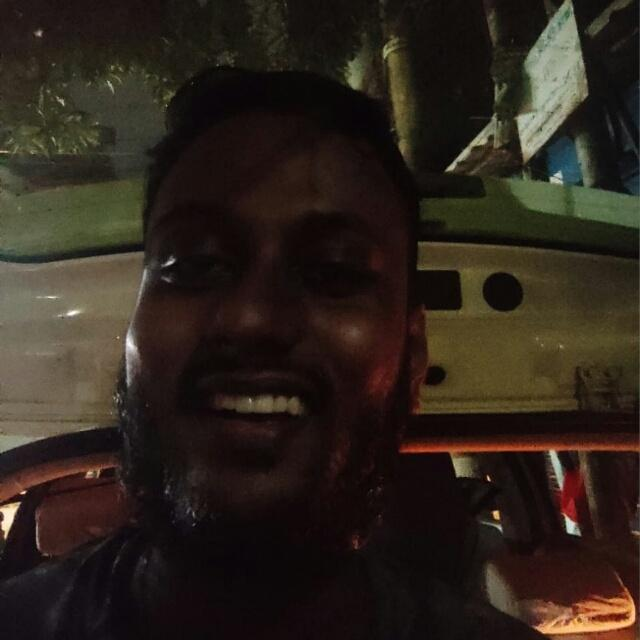Happy: (103, 85, 453, 561)
